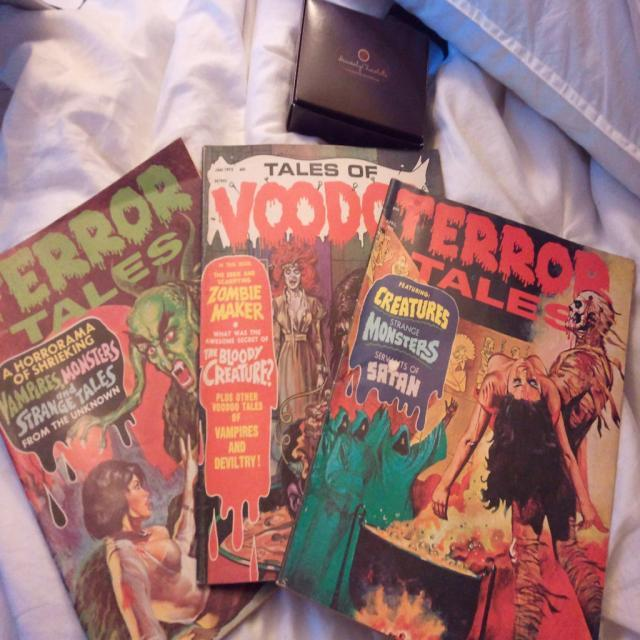book: (271, 176, 638, 640), (1, 139, 284, 640), (197, 142, 442, 595)
